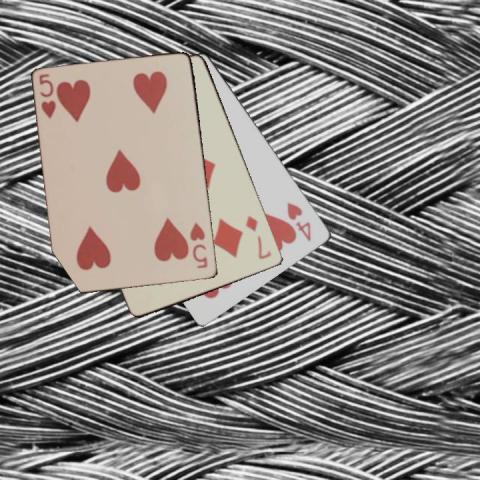4h: (284, 199, 313, 243)
5h: (188, 219, 209, 270), (36, 70, 57, 120)
7d: (243, 212, 273, 261)
